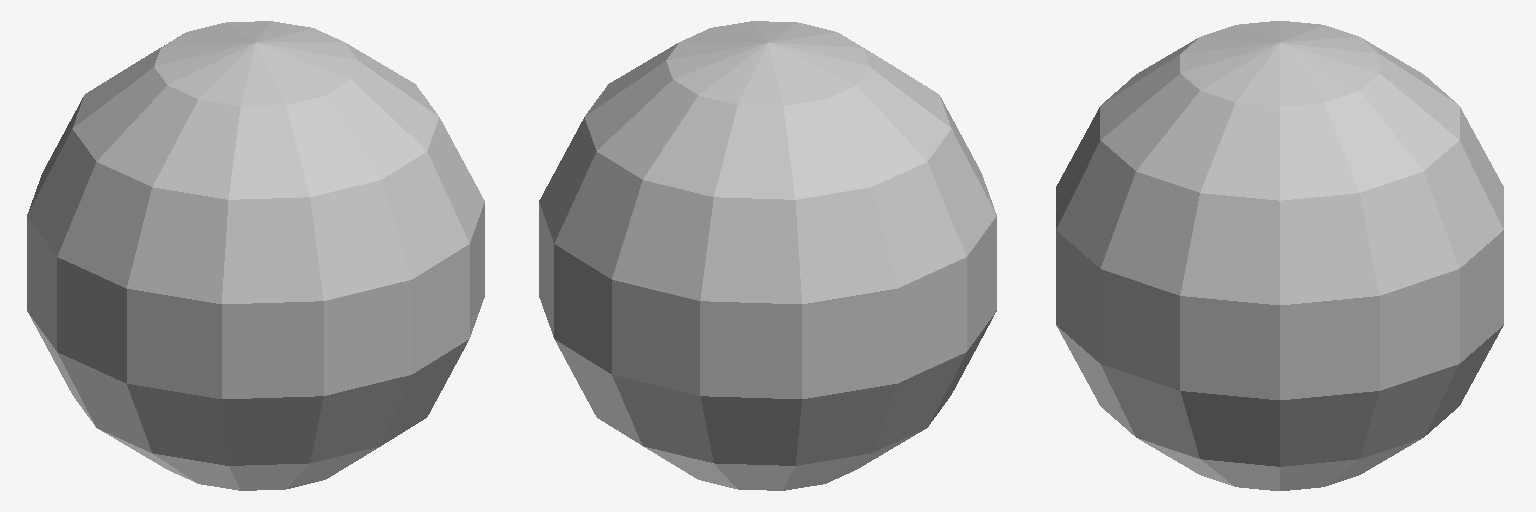
File: Sky-Sphere.obj
3 renders of one model, left to right at view 1: azimuth 30°, elevation 25°; view 2: azimuth 150°, elevation 25°; view 3: azimuth 270°, elevation 25°, orthographic.
Visible parts, largest first — view 1: Sky-Sphere; view 2: Sky-Sphere; view 3: Sky-Sphere.
Part boxes in pixels (bbox=[...]): Sky-Sphere: bbox=[27, 21, 484, 490]; Sky-Sphere: bbox=[539, 21, 996, 490]; Sky-Sphere: bbox=[1056, 21, 1503, 490].
Size of the model in its own units: 584957 by 600000 by 570291.